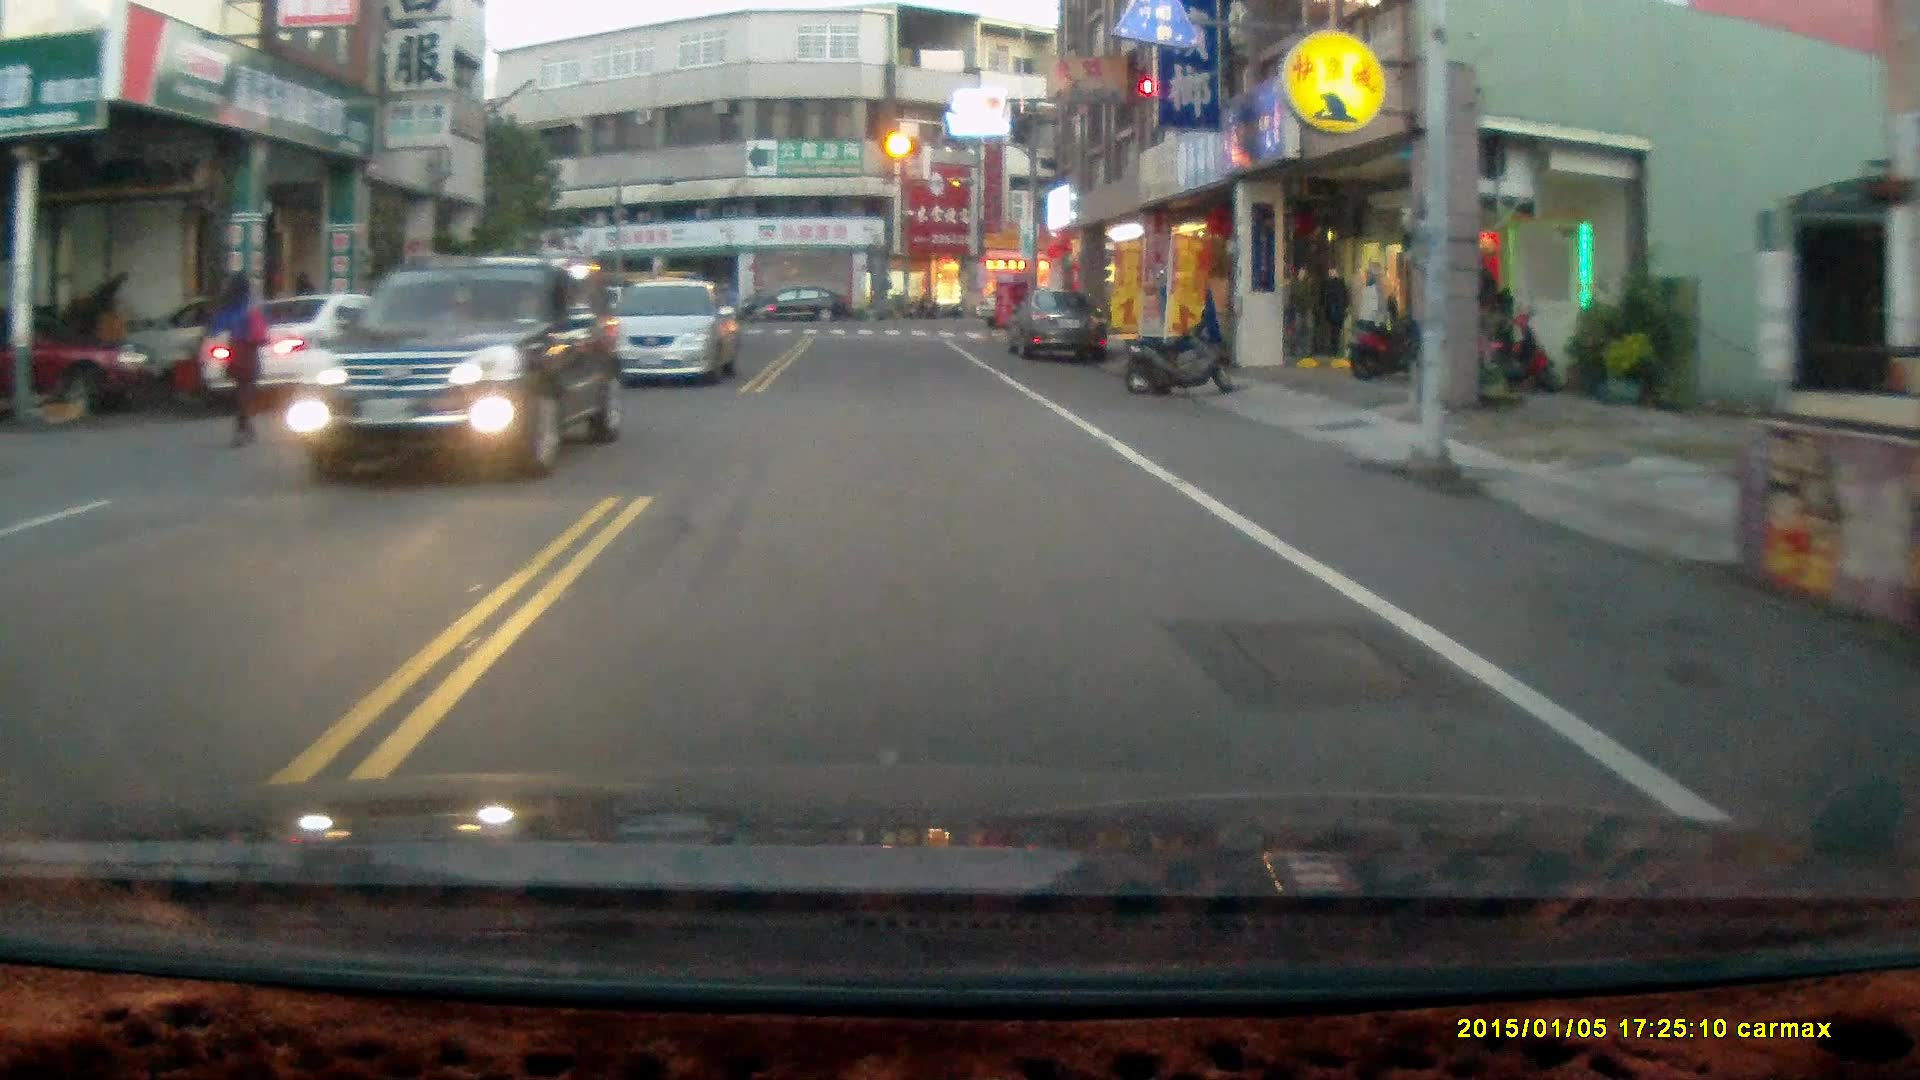pedestrian: (211, 268, 266, 449)
vehicle: (288, 255, 623, 483), (194, 295, 456, 413), (606, 277, 737, 388), (1006, 286, 1111, 369), (745, 286, 852, 331)
